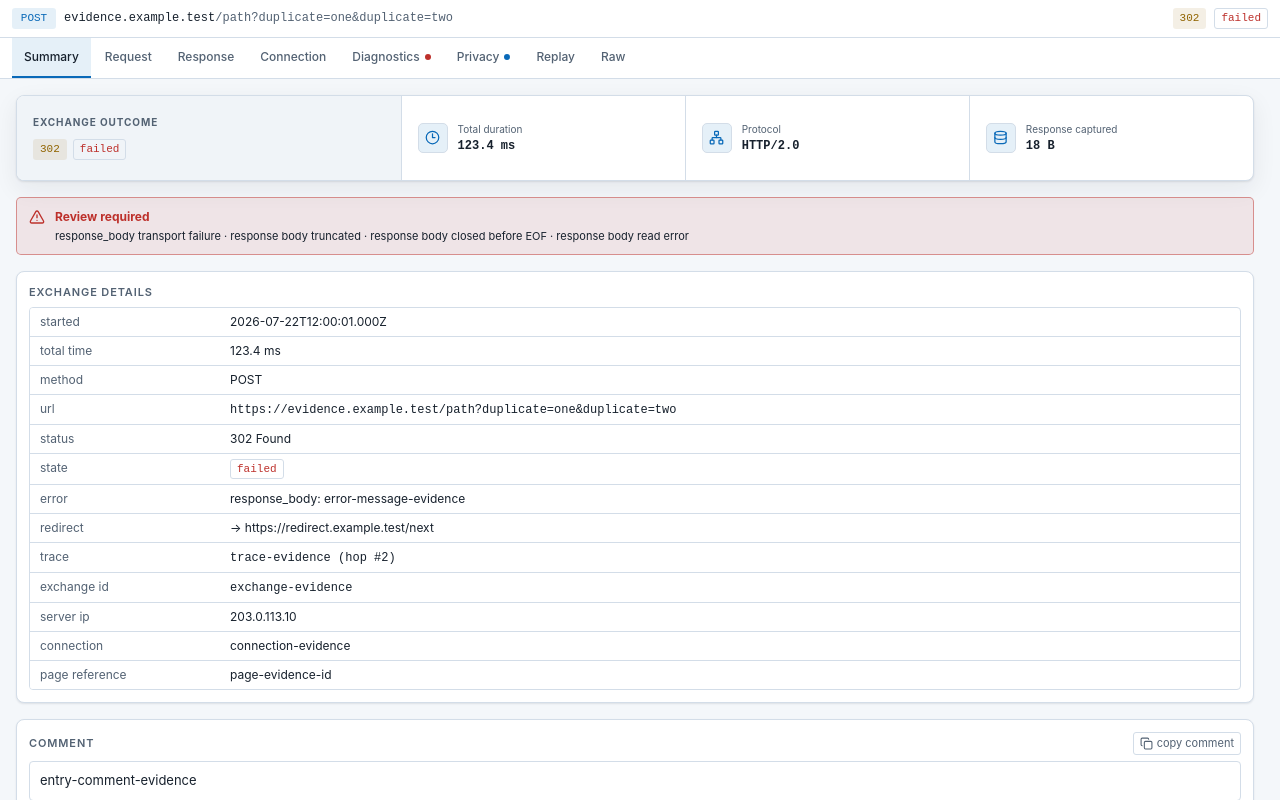
DetailPanel evidence coverage › makes capture-level and future evidence inspectable
Click the tab "Raw": (613, 58) [589,38,638,78]
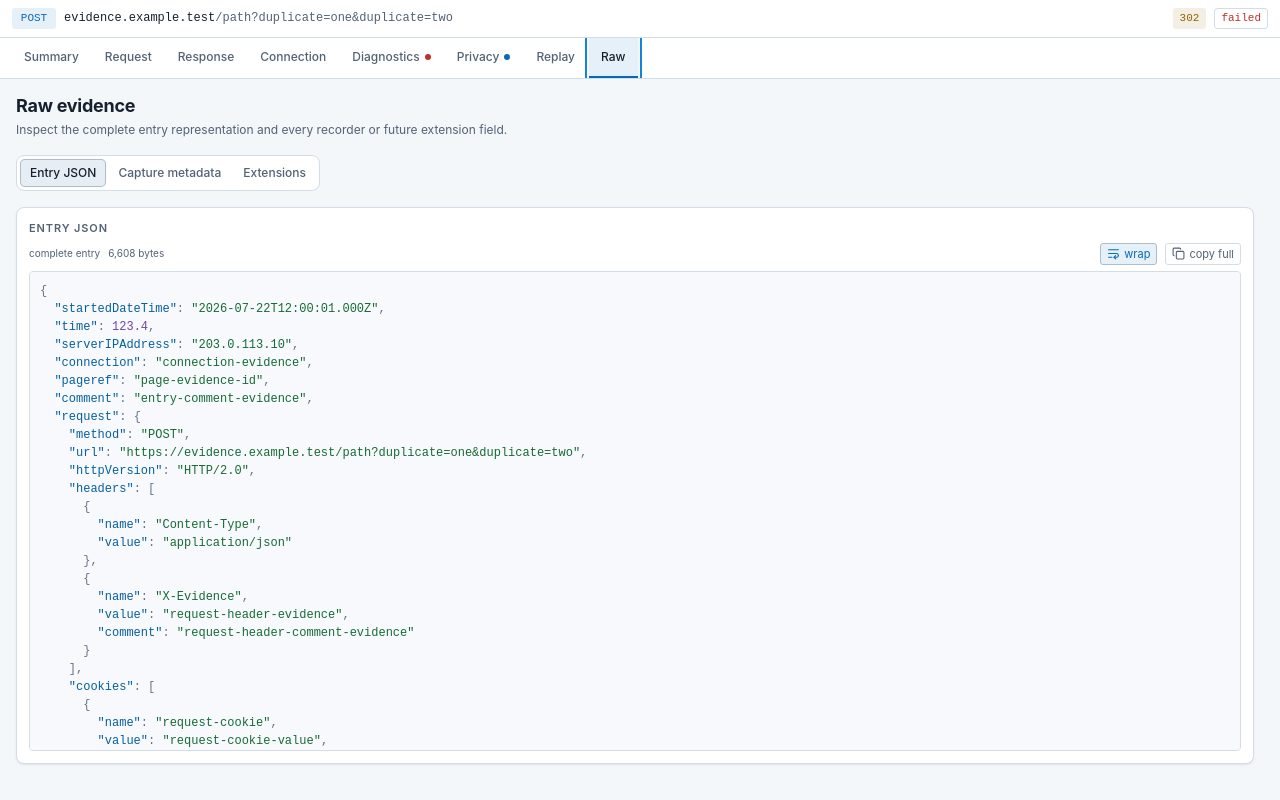
Click the tab "Capture metadata": (170, 173) [108,159,231,187]
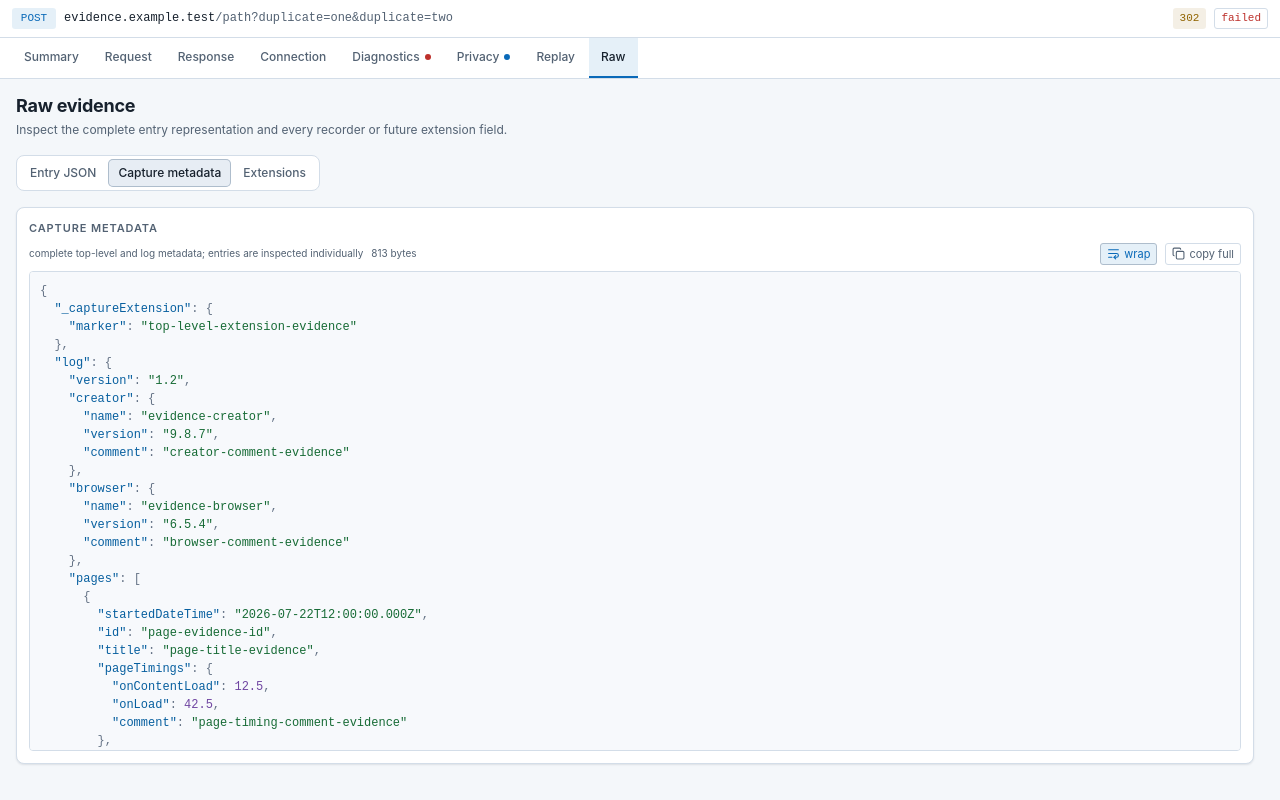
Check: the element "Capture metadata" shows "creator-comment-evidence", box [162,446,350,460]
Check: the element "Capture metadata" shows "browser-comment-evidence", box [162,536,350,550]
Check: the element "Capture metadata" shows "top-level-extension-evidence", box [141,320,357,334]
